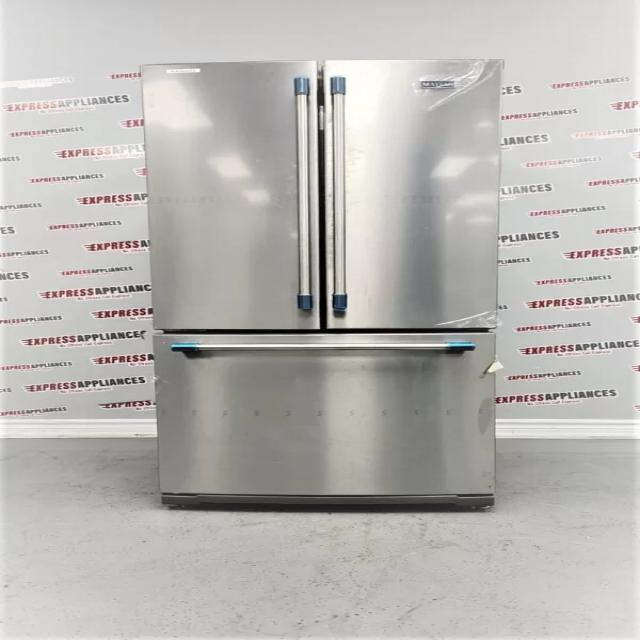refrigerator: (137, 58, 500, 511)
